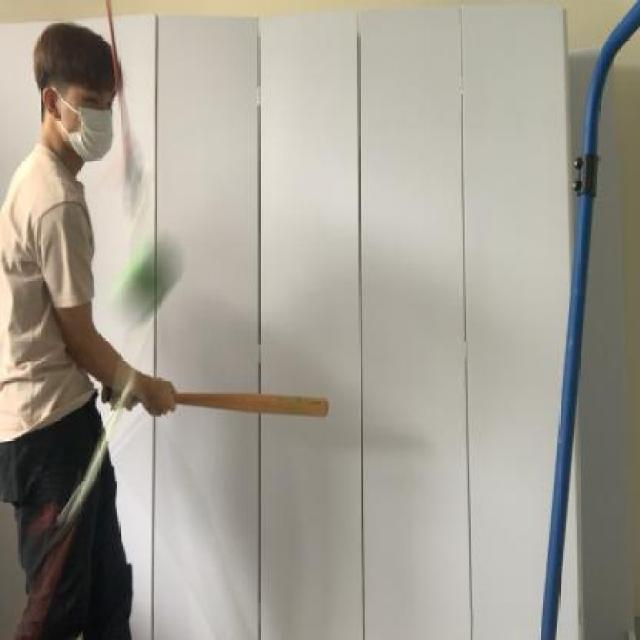baseball: (102, 231, 196, 335)
